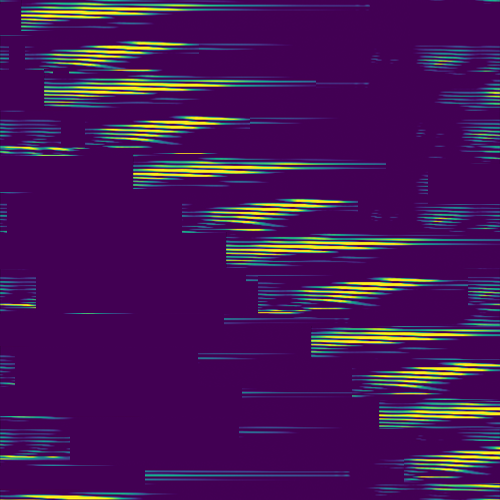semblance: (256, 276, 444, 315), (129, 149, 326, 182), (192, 193, 344, 235), (223, 233, 426, 263), (43, 76, 254, 104), (41, 38, 203, 73), (94, 111, 248, 144), (357, 363, 500, 397), (309, 326, 494, 348), (19, 2, 207, 22), (409, 445, 500, 480), (379, 402, 500, 426), (424, 482, 500, 493)
